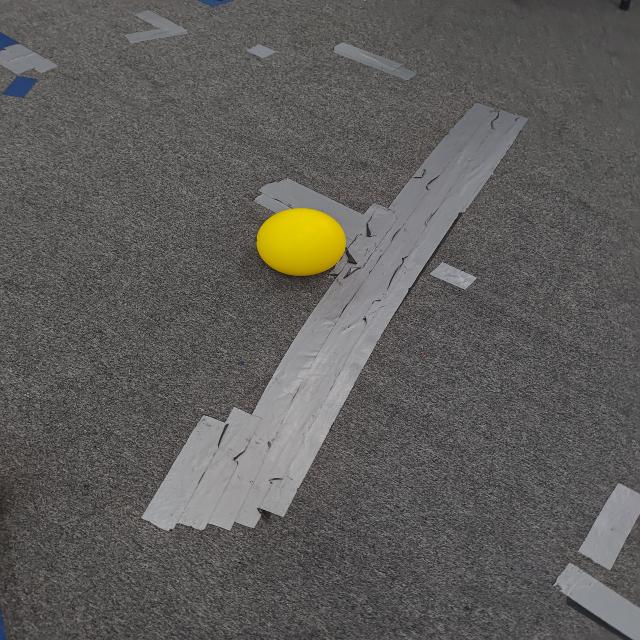Fuel: (257, 208, 346, 276)
